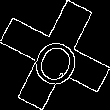O_NE: (24, 23, 86, 87)
